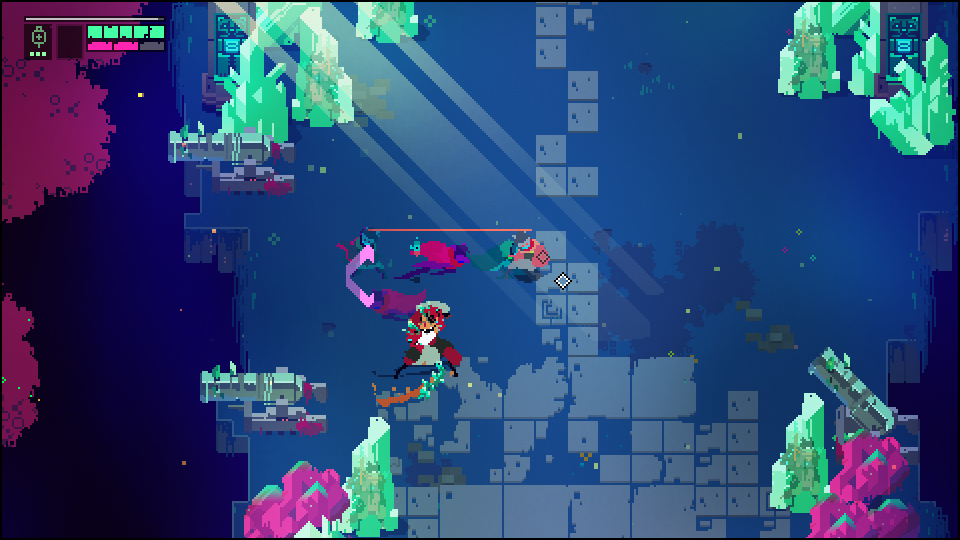hanged_man: (382, 300, 466, 401)
player: (473, 231, 550, 276)
